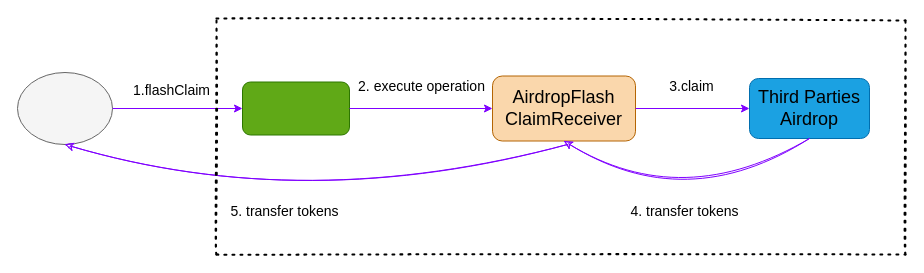
Some shapes in this 924 by 273 pixel diagram are drawn without their labels. Here are the shapes that lost their labels. From the top down, the box of each, then its label:
(16, 72, 112, 144): NToken Owne r
(242, 81, 350, 135): Pool Contract
